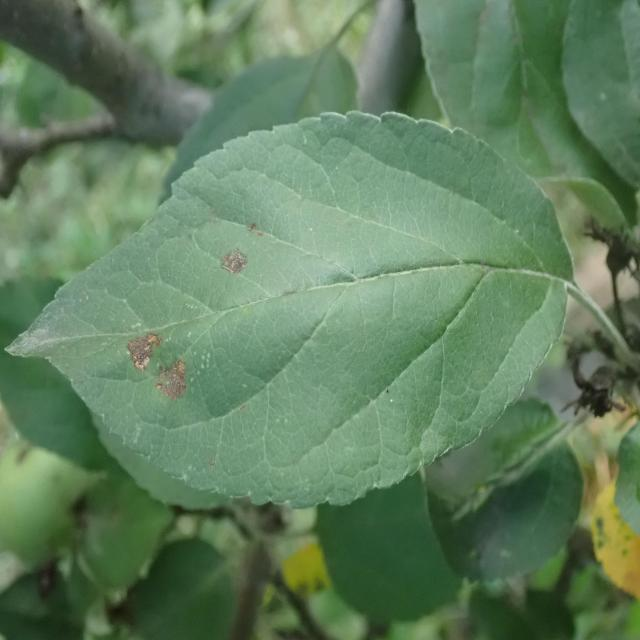scab: (87, 182, 305, 514)
